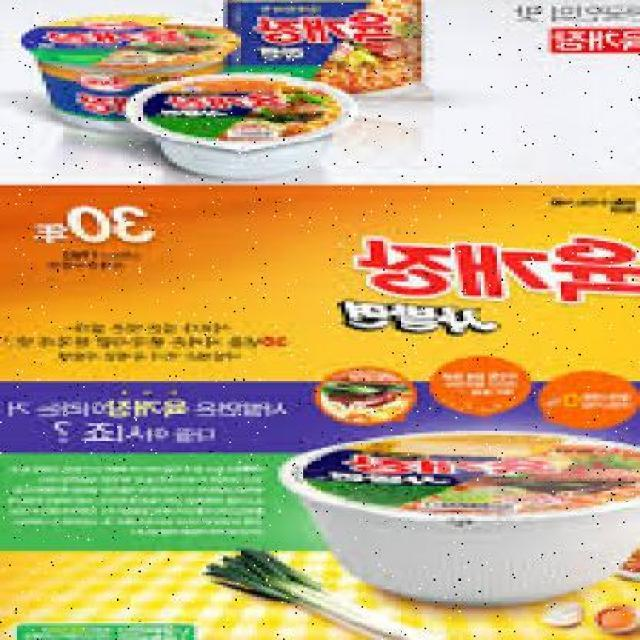Miscellaneous: (295, 432, 640, 600), (12, 7, 252, 141), (120, 70, 354, 181)
